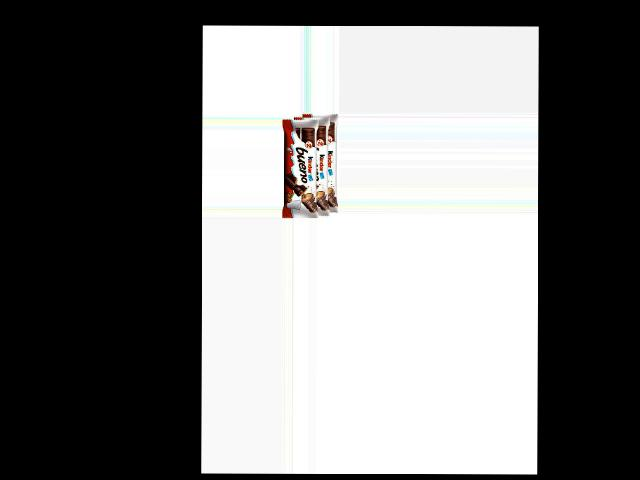chocolate: (281, 114, 338, 216)
